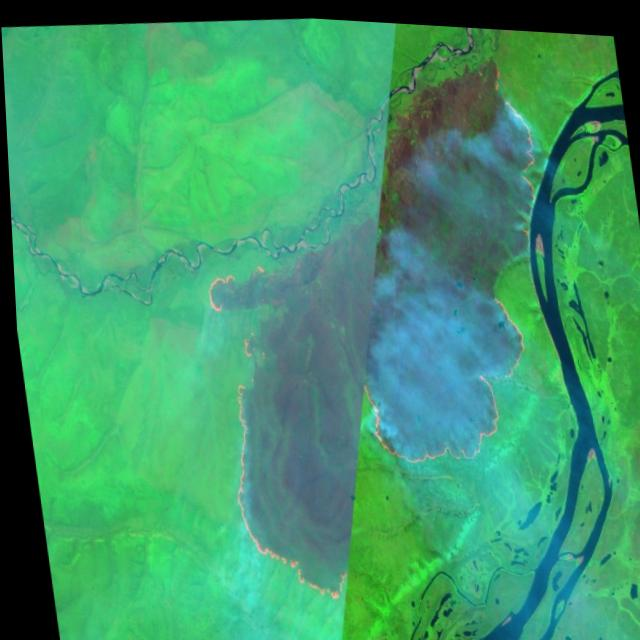fire: (170, 45, 602, 622)
